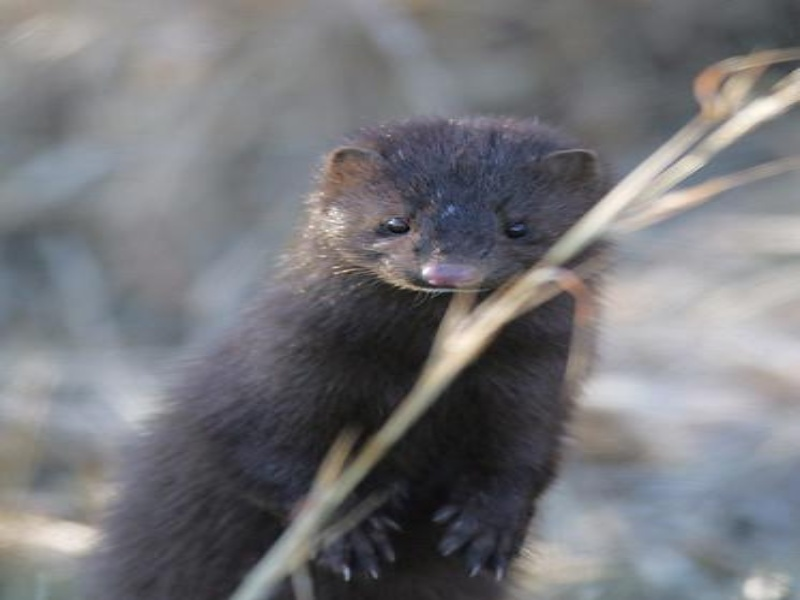minkish: (58, 112, 610, 599)
